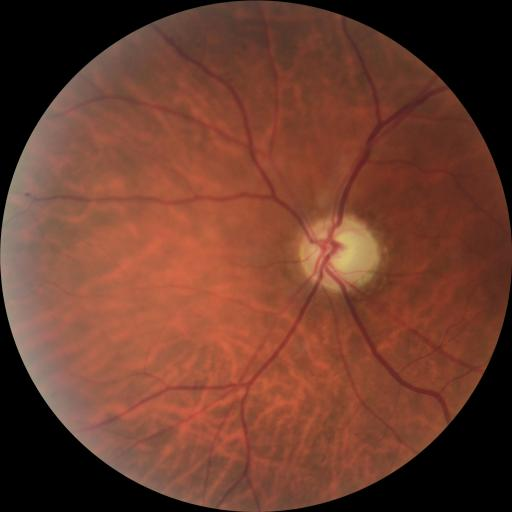Optic Cup: (322, 233, 358, 271)
Optic Disc: (301, 216, 380, 293)
